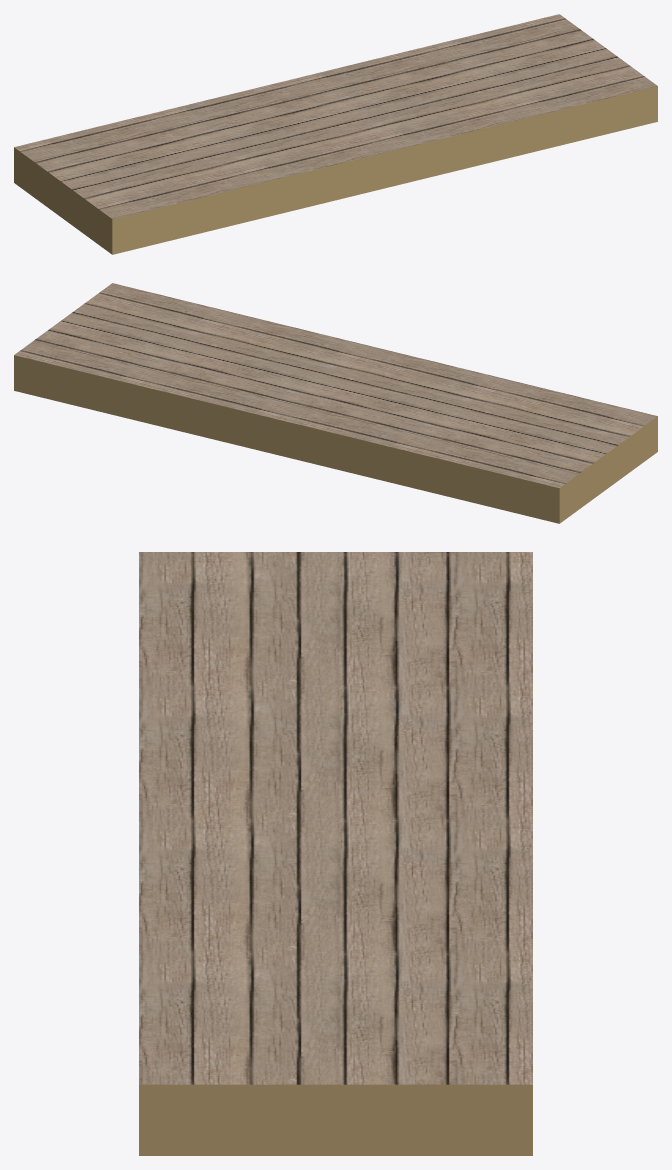
File: UBS_FloorPanel_160502.FBX
3 renders of one model, top to bottom at view 1: azimuth 30°, elevation 25°; view 2: azimuth 150°, elevation 25°; view 3: azimuth 270°, elevation 25°, orthographic. The views are drawn at different scales.
Visible parts, largest first — view 1: UBS_FloorPanel_161601_01A046; view 2: UBS_FloorPanel_161601_01A046; view 3: UBS_FloorPanel_161601_01A046.
Part boxes in pixels (left/top/right/bottom): UBS_FloorPanel_161601_01A046: left=14, top=14, right=657, bottom=254; UBS_FloorPanel_161601_01A046: left=14, top=283, right=657, bottom=523; UBS_FloorPanel_161601_01A046: left=139, top=552, right=532, bottom=1155.
Size of the model in its own units: 400 by 25 by 125.
Materials: 4 (1 with a texture image).
